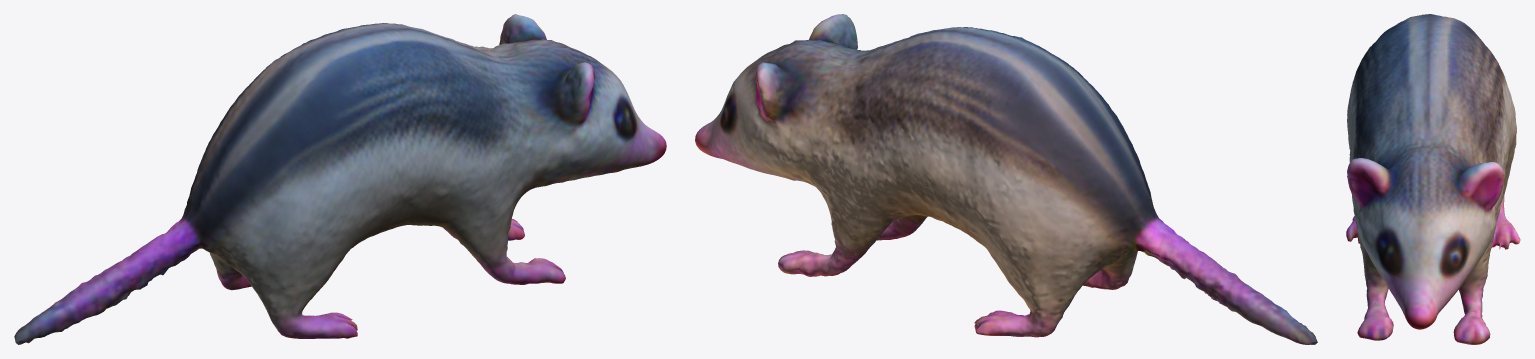
File: possum.glb
3 renders of one model, left to right at view 1: azimuth 30°, elevation 25°; view 2: azimuth 150°, elevation 25°; view 3: azimuth 270°, elevation 25°, orthographic. The views are drawn at different scales.
Parts seen in each view (by area): view 1: Mesh1; view 2: Mesh1; view 3: Mesh1.
Boxes of the visible parts, x1,y1,x2,y2 form: Mesh1: (14,14,666,344); Mesh1: (695,14,1317,344); Mesh1: (1346,14,1520,344).
Size of the model in its own units: 1.2 by 0.4698 by 0.3137.
Materials: 1 (1 with a texture image).
